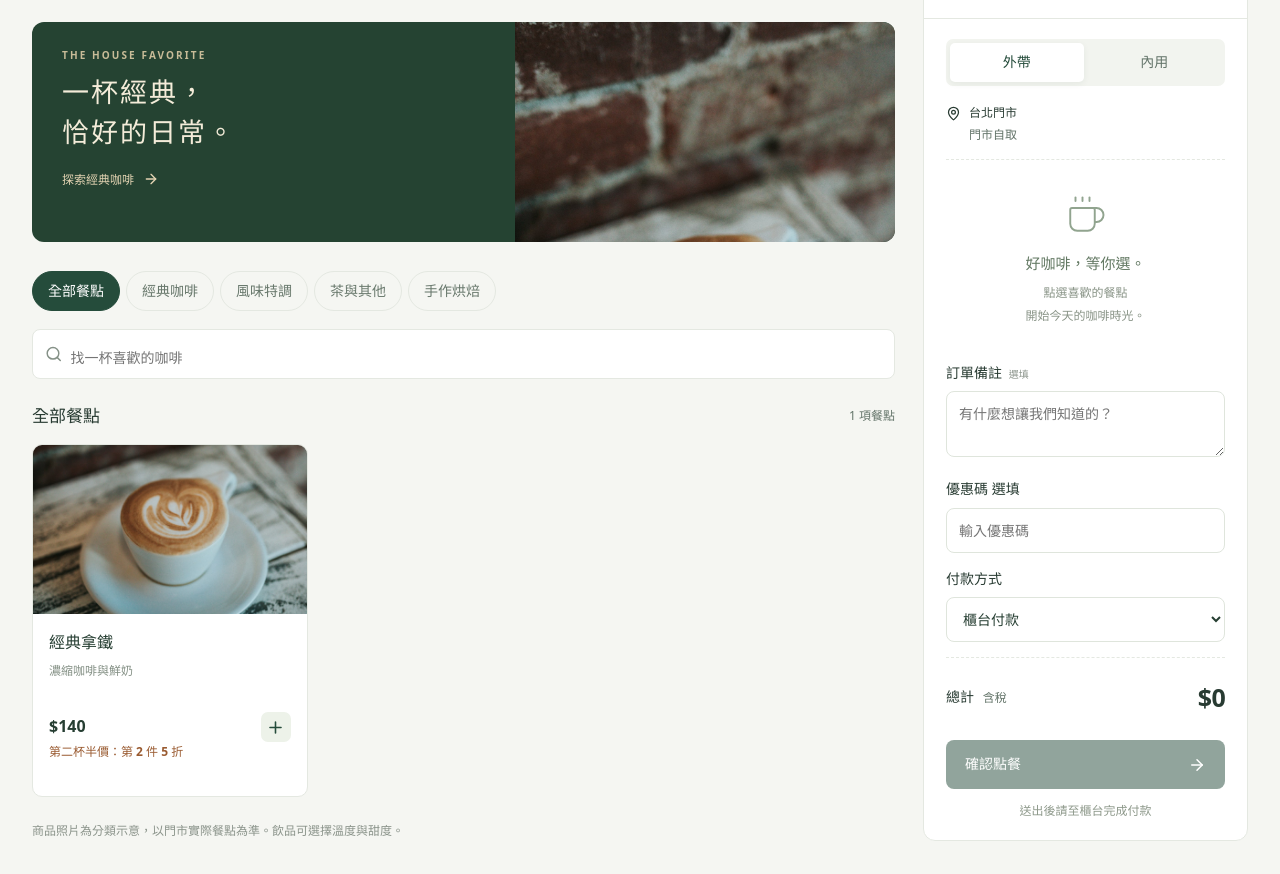
Test: MenuView 可見性 › 購物車兩件時提示已折一件且下一輪仍需兩件
(page scrolled)
Click the button "經典拿鐵 濃縮咖啡與鮮奶 $140 第二杯半價：第 2 件 5 折".
click(170, 530)  # box [32, 444, 308, 797]
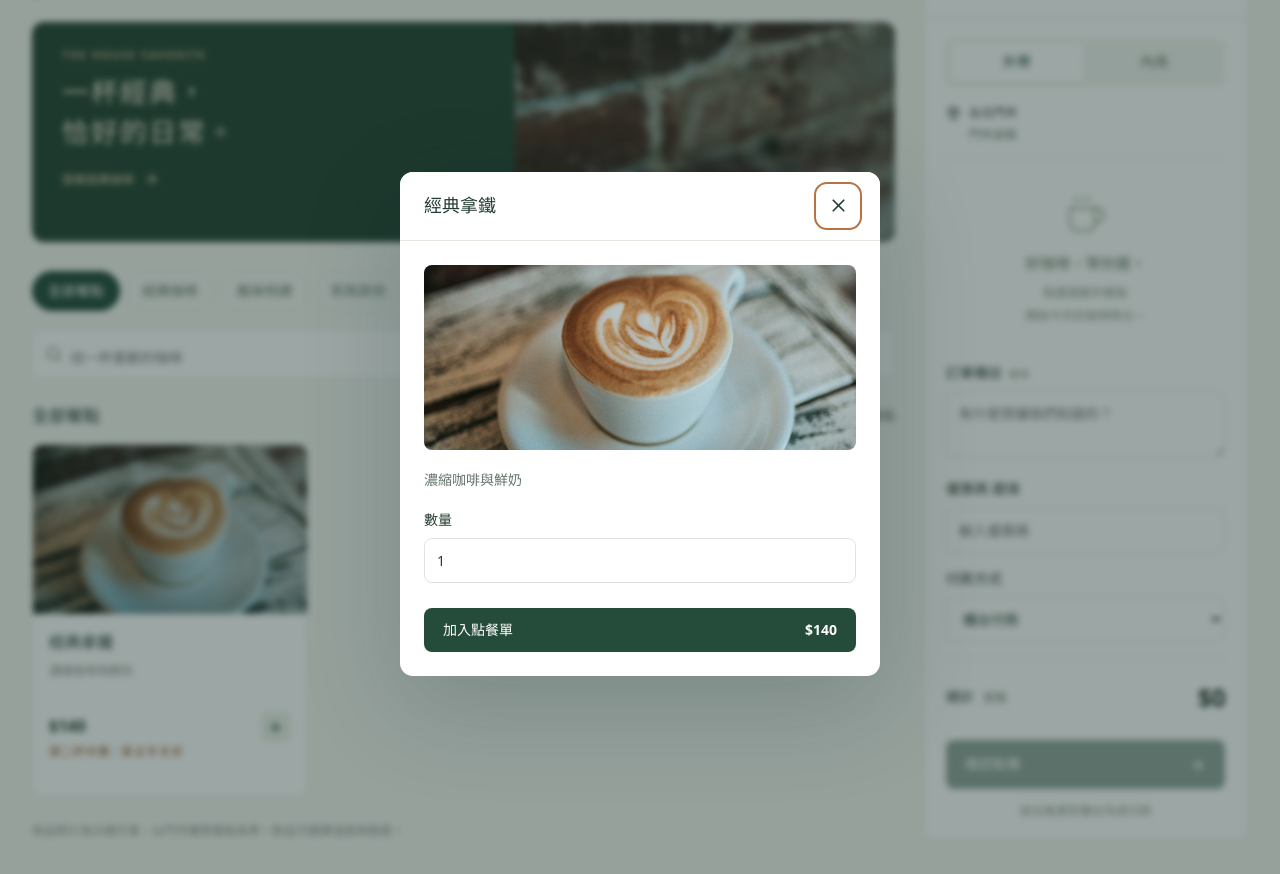
Check: the button "加入點餐單 $140" is shown
Click the button "加入點餐單 $140".
click(478, 630)  # box [424, 608, 856, 652]
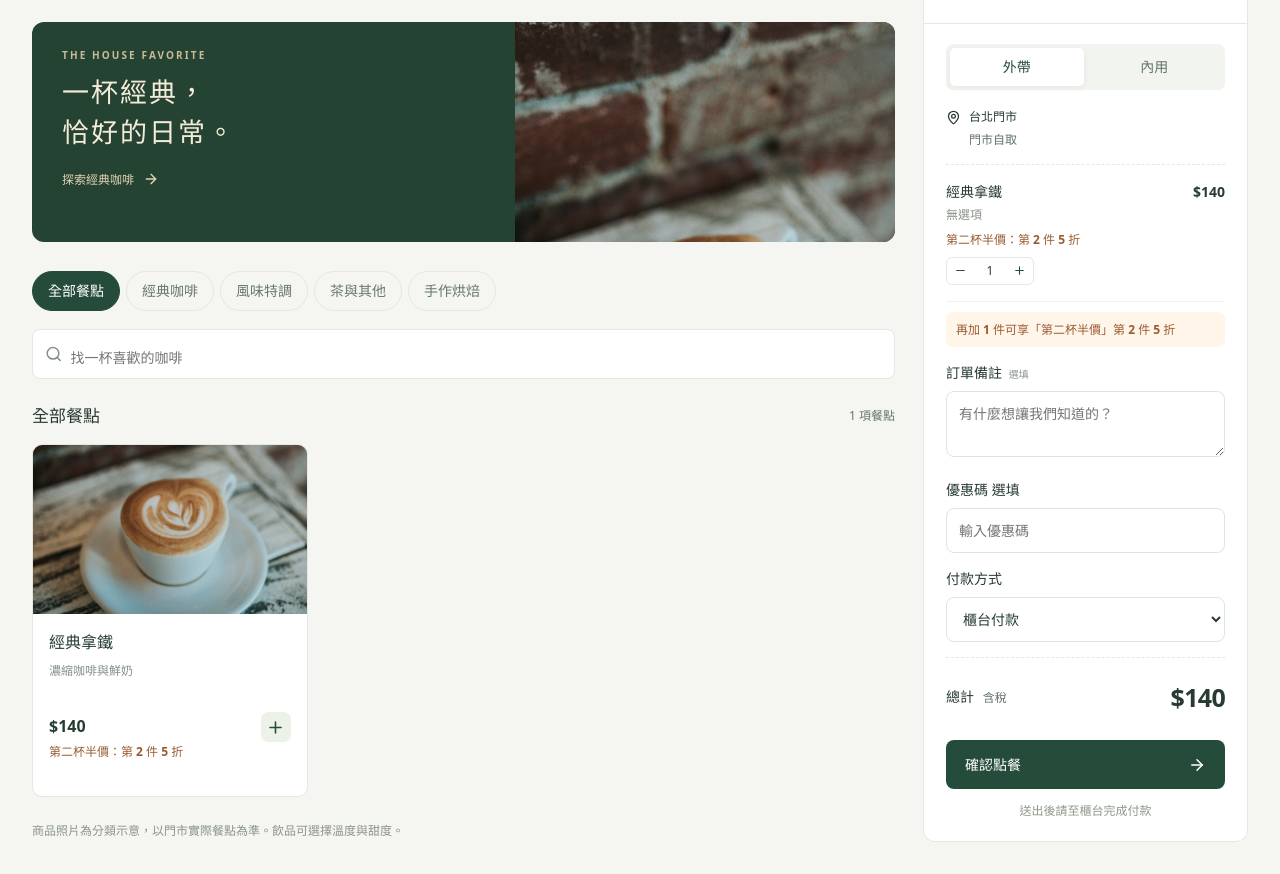
Click the button named "增加經典拿鐵".
click(1020, 271)  # box [1006, 257, 1033, 284]
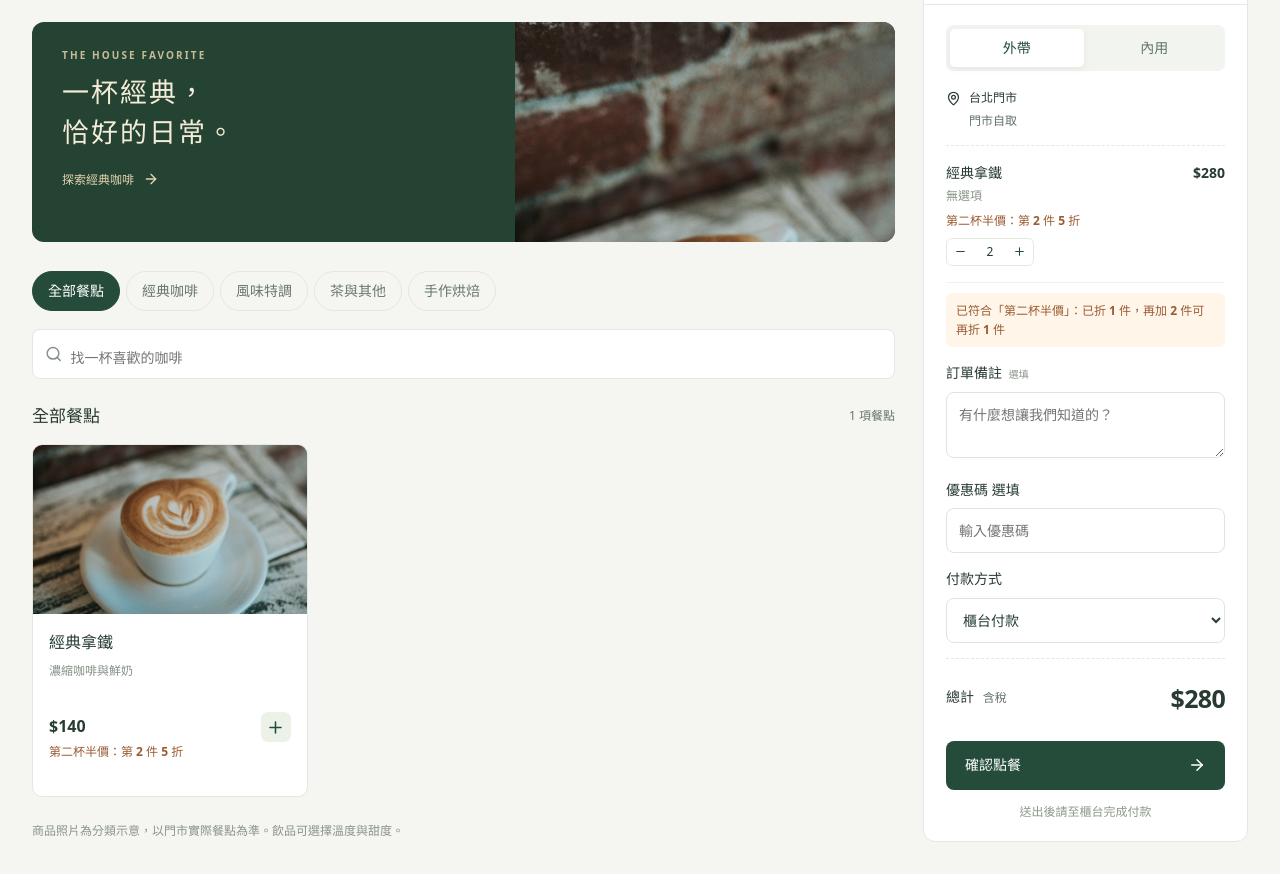
Check: the text with class "cart-promotion-progress" reads "已符合「第二杯半價」：已折 1 件，再加 2 件可再折 1 件", box [956, 302, 1204, 338]
